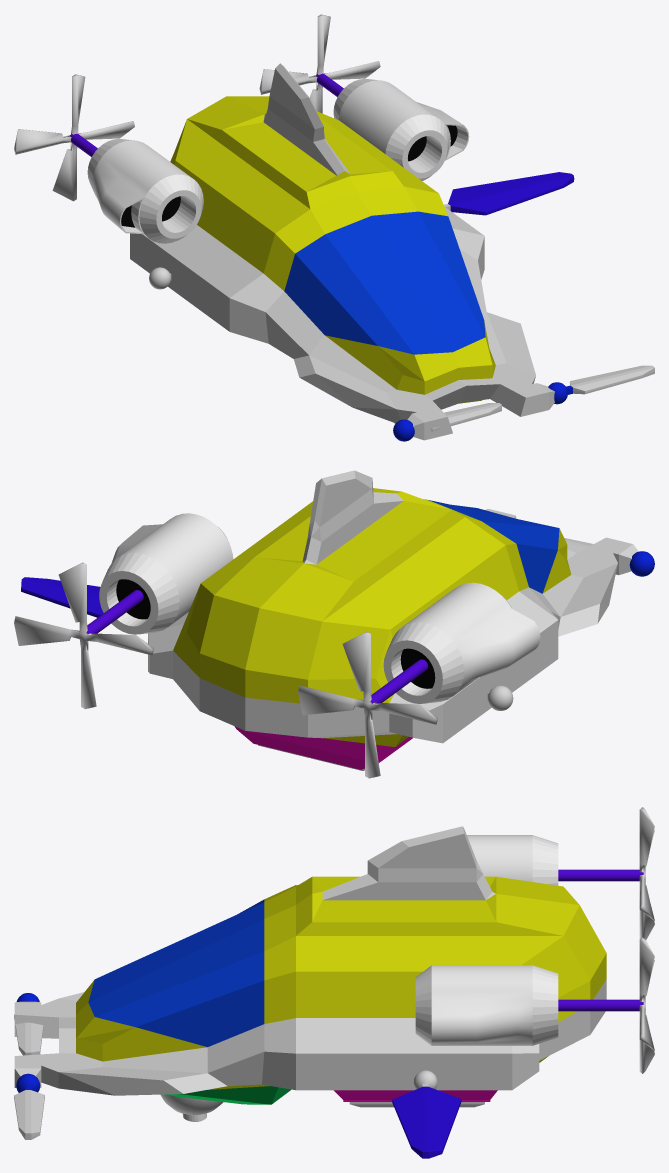
3 renders of one model, top to bottom at view 1: azimuth 30°, elevation 25°; view 2: azimuth 150°, elevation 25°; view 3: azimuth 270°, elevation 25°, orthographic. The views are drawn at different scales.
Parts seen in each view (by area): view 1: Hull, EngStbd, EngPort, FinPortAft, PropStbd, PropPort, FinPortFwd, FinStbdFwd; view 2: Hull, EngStbd, EngPort, PropPort, PropStbd, FinPortAft, FinStbdFwd, FinStbdAft; view 3: Hull, EngPort, EngStbd, FinPortAft, FinPortFwd, PropPort, PropStbd, FinStbdFwd, Light.
Part boxes in pixels (x1=…): Hull: x1=130, y1=63, x2=554, y2=440; EngStbd: x1=70, y1=133, x2=203, y2=243; EngPort: x1=316, y1=73, x2=469, y2=180; FinPortAft: x1=444, y1=172, x2=574, y2=215; PropStbd: x1=14, y1=74, x2=134, y2=201; PropPort: x1=259, y1=14, x2=380, y2=113; FinPortFwd: x1=548, y1=365, x2=654, y2=404; FinStbdFwd: x1=393, y1=403, x2=501, y2=441; Hull: x1=148, y1=470, x2=638, y2=769; EngStbd: x1=363, y1=582, x2=540, y2=710; EngPort: x1=79, y1=513, x2=233, y2=641; PropPort: x1=14, y1=562, x2=153, y2=709; PropStbd: x1=298, y1=632, x2=437, y2=778; FinPortAft: x1=21, y1=577, x2=103, y2=617; FinStbdFwd: x1=564, y1=538, x2=654, y2=576; FinStbdAft: x1=487, y1=685, x2=513, y2=710; Hull: x1=14, y1=826, x2=606, y2=1104; EngPort: x1=415, y1=965, x2=643, y2=1045; EngStbd: x1=467, y1=835, x2=643, y2=885; FinPortAft: x1=392, y1=1070, x2=461, y2=1158; FinPortFwd: x1=14, y1=1073, x2=44, y2=1139; PropPort: x1=639, y1=937, x2=654, y2=1073; PropStbd: x1=639, y1=807, x2=654, y2=939; FinStbdFwd: x1=14, y1=993, x2=43, y2=1055; Light: x1=160, y1=1094, x2=223, y2=1121.
Bounding box in the file's own units: 9.52 × 5.35 × 10.66.
